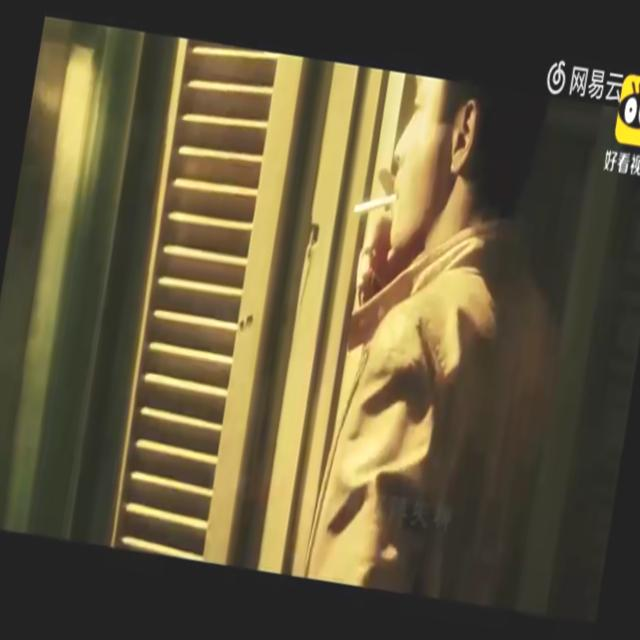smoke: (353, 190, 398, 218)
